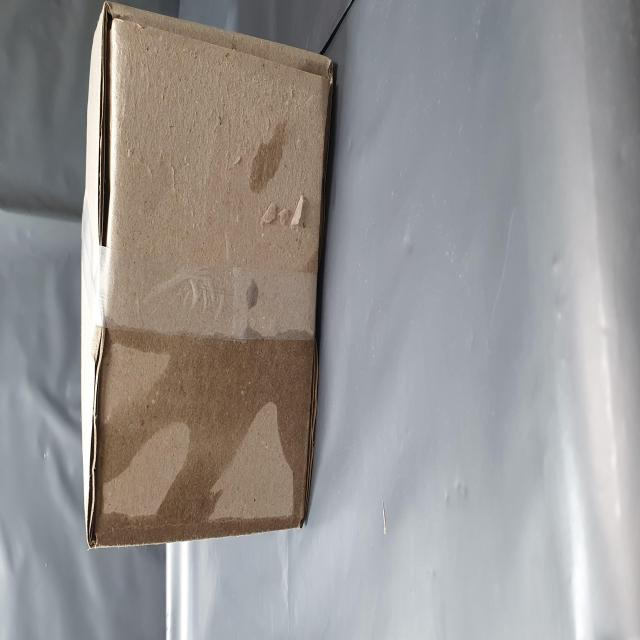wet: (42, 170, 173, 564)
